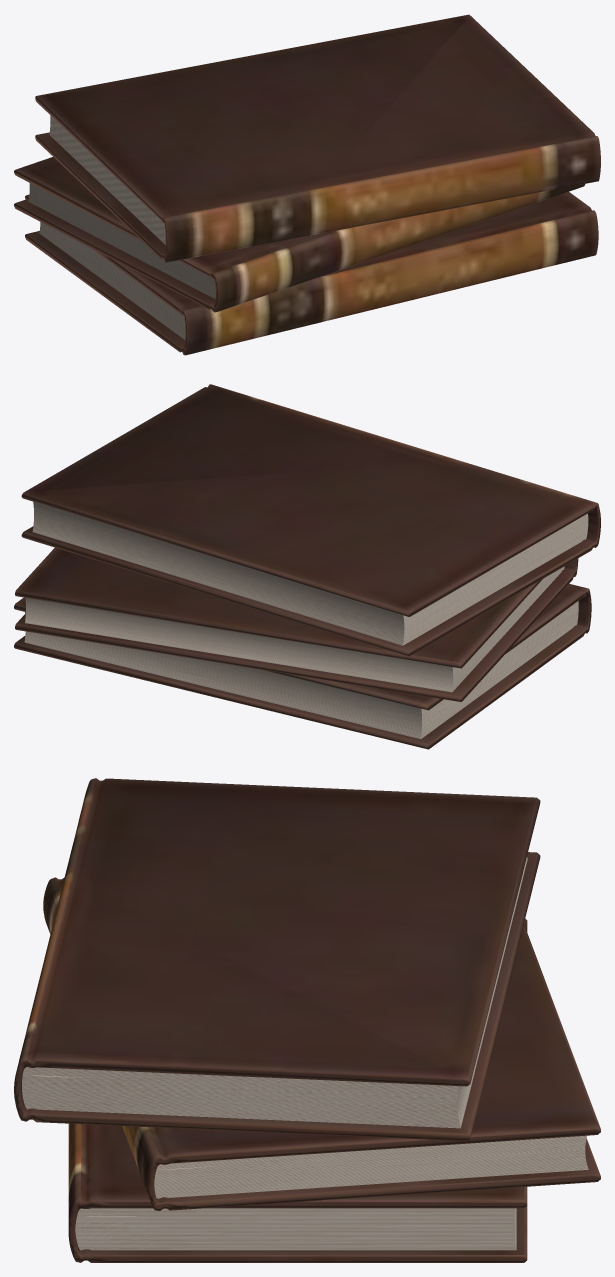
Rendered from books-stack.glb.
3 renders of one model, top to bottom at view 1: azimuth 30°, elevation 25°; view 2: azimuth 150°, elevation 25°; view 3: azimuth 270°, elevation 25°, orthographic. The views are drawn at different scales.
Visible parts, largest first — view 1: book_encyclopedia_set_01_book04; view 2: book_encyclopedia_set_01_book04; view 3: book_encyclopedia_set_01_book04.
Part boxes in pixels (left/top/right/bottom): book_encyclopedia_set_01_book04: left=14, top=14, right=600, bottom=355; book_encyclopedia_set_01_book04: left=14, top=384, right=600, bottom=749; book_encyclopedia_set_01_book04: left=14, top=778, right=600, bottom=1262.
Bounding box in the file's own units: 0.26 × 0.0756 × 0.2086.
Materials: 2 (2 with a texture image).
